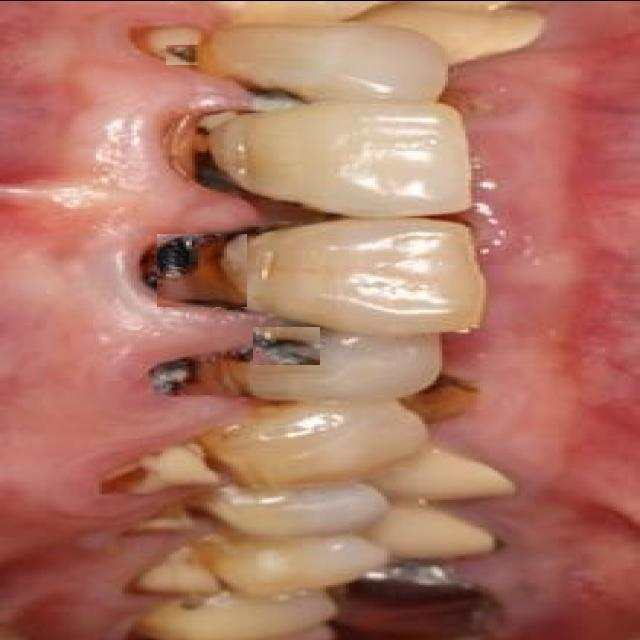decay: (157, 233, 247, 306), (186, 114, 250, 194), (253, 326, 320, 364), (166, 360, 242, 392), (422, 380, 474, 420), (256, 78, 306, 104), (166, 44, 201, 64)
